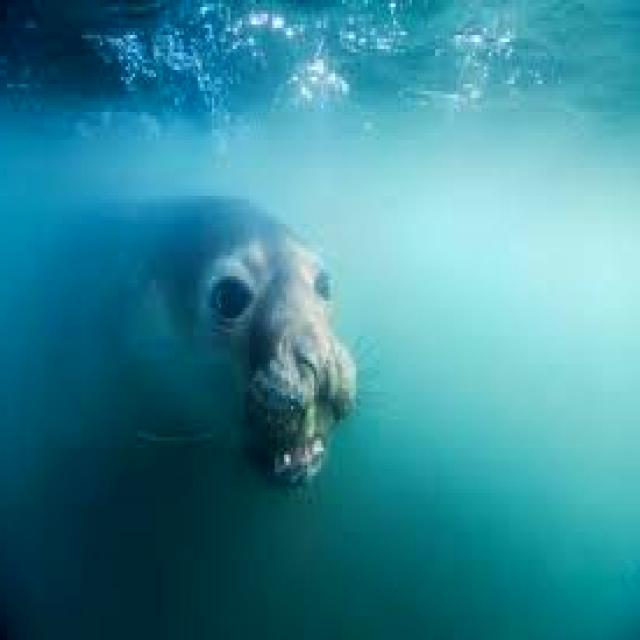seal: (30, 196, 356, 483)
